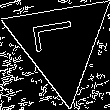L_E: (34, 24, 86, 62)
